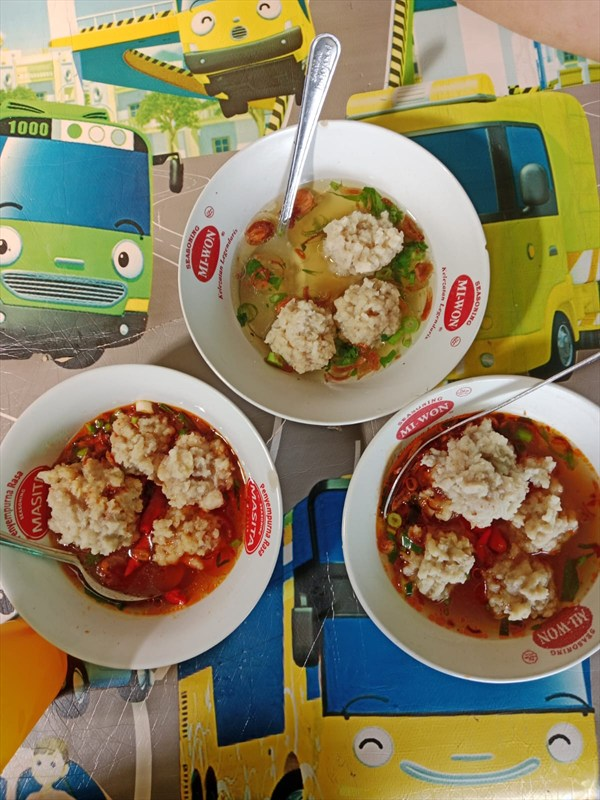Bakso: (62, 72, 568, 728)
